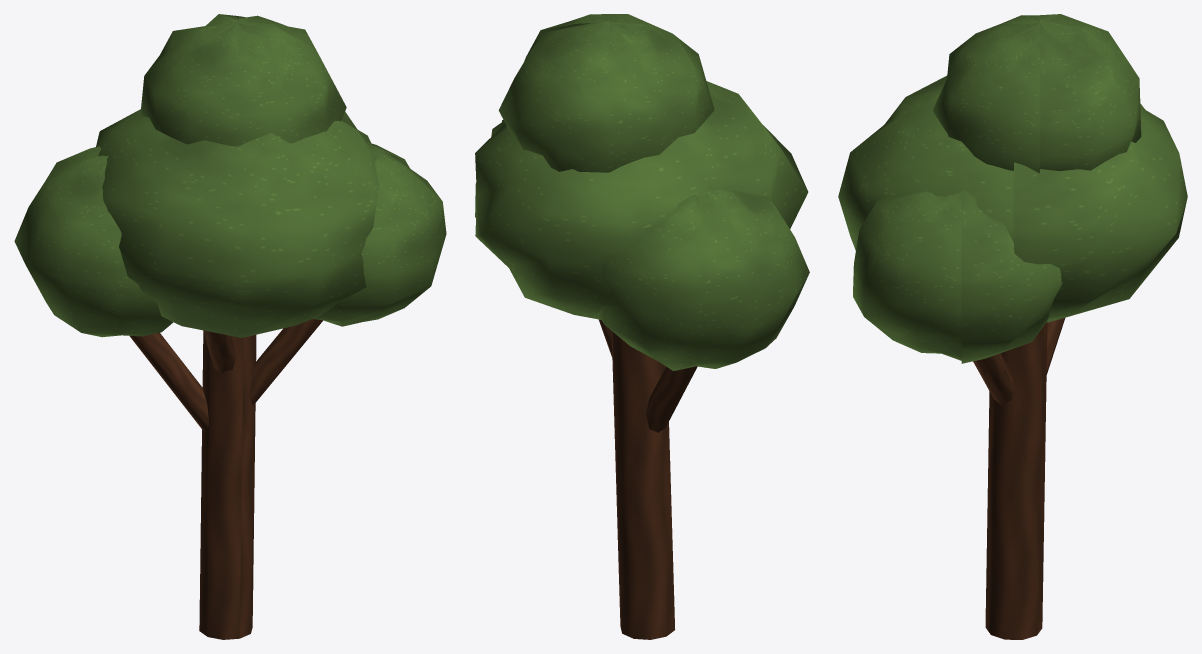
File: tree_v4_b.obj
The picture shows the model from 3 angles, left to right: view 1: azimuth 30°, elevation 25°; view 2: azimuth 150°, elevation 25°; view 3: azimuth 270°, elevation 25°; orthographic projection. The views are drawn at different scales.
Parts seen in each view (by area): view 1: tree_v4_b; view 2: tree_v4_b; view 3: tree_v4_b.
Boxes of the visible parts, bbox=[...] form: tree_v4_b: bbox=[14, 14, 446, 639]; tree_v4_b: bbox=[475, 14, 809, 639]; tree_v4_b: bbox=[838, 14, 1187, 639].
Bounding box in the file's own units: 5.68 × 9.16 × 4.67.
Materials: 5 (5 with a texture image).
